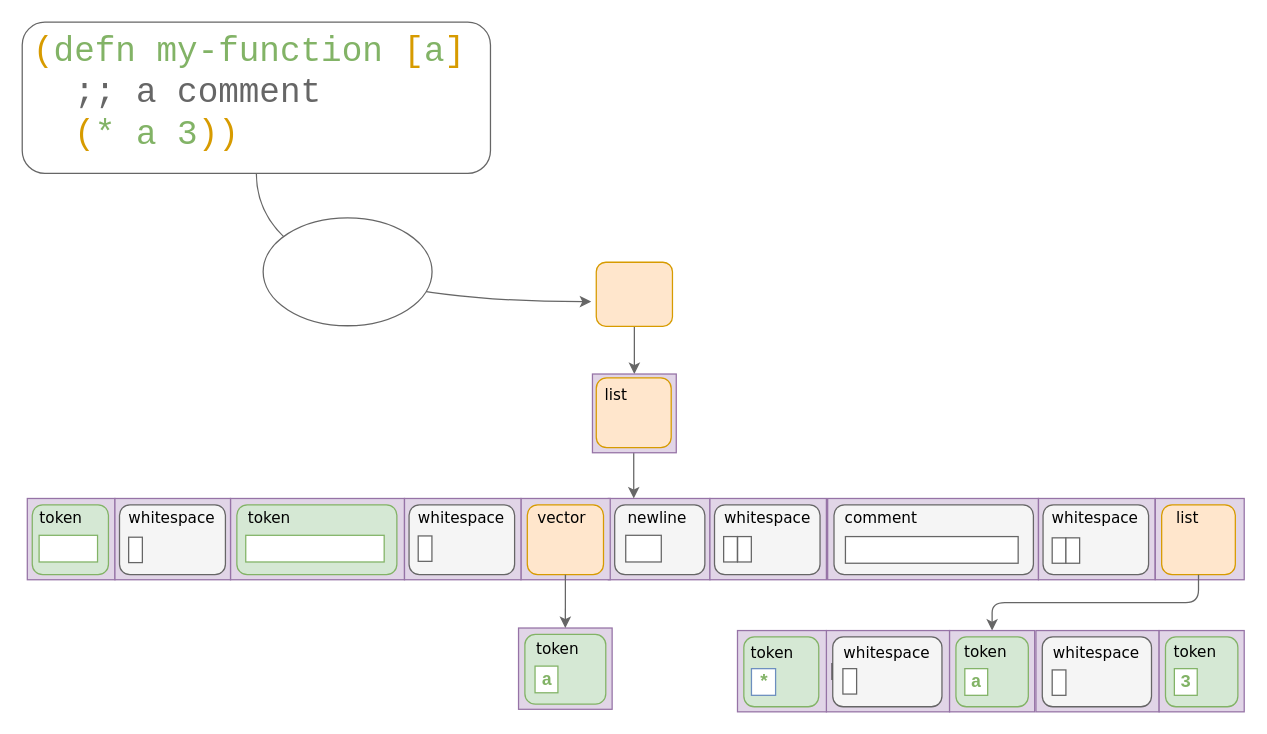
This 1267x734 diagram has some shape labels left out. The shapes that lost their labels are listed below. From the top down, each one's centre as x and y in pixels, then its label:
point (347, 271): parses to the following node structure
point (633, 293): forms
point (68, 548): defn
point (314, 548): my-function
point (642, 548): \n
point (931, 549): ;; a comment\n
